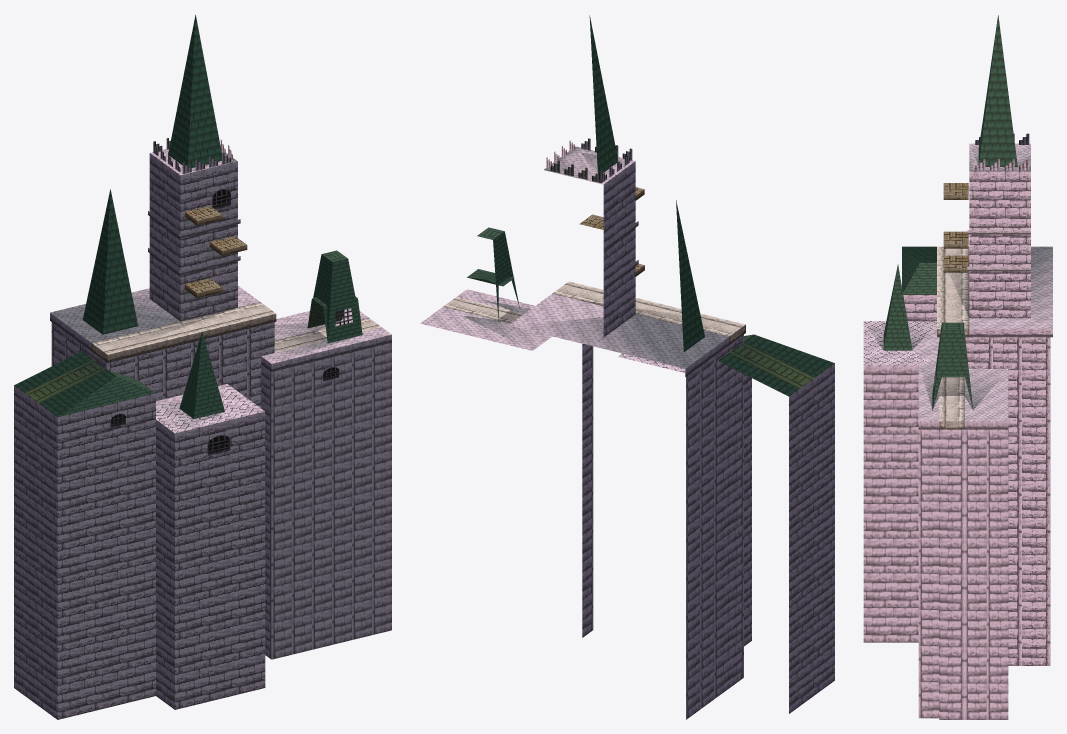
Rendered from HyruleCastle.glb.
3 renders of one model, left to right at view 1: azimuth 30°, elevation 25°; view 2: azimuth 150°, elevation 25°; view 3: azimuth 270°, elevation 25°, orthographic. The views are drawn at different scales.
Parts seen in each view (by area): view 1: HyruleCastle_3, HyruleCastle_4, HyruleCastle_2, HyruleCastle_6, HyruleCastle_0, HyruleCastle_5, HyruleCastle_12, HyruleCastle_11, HyruleCastle_14, HyruleCastle_18, HyruleCastle_Alpha_9, HyruleCastle_Alpha_1 (+1 smaller); view 2: HyruleCastle_4, HyruleCastle_6, HyruleCastle_0, HyruleCastle_11, HyruleCastle_3, HyruleCastle_2, HyruleCastle_12, HyruleCastle_14, HyruleCastle_Alpha_1, HyruleCastle_5; view 3: HyruleCastle_4, HyruleCastle_3, HyruleCastle_11, HyruleCastle_0, HyruleCastle_2, HyruleCastle_12, HyruleCastle_5, HyruleCastle_18, HyruleCastle_6, HyruleCastle_7, HyruleCastle_Alpha_1, HyruleCastle_19.
Boxes of the visible parts, x1,y1,x2,y2 form: HyruleCastle_3: [57, 153, 265, 719]; HyruleCastle_4: [51, 322, 391, 659]; HyruleCastle_2: [14, 15, 362, 418]; HyruleCastle_6: [14, 385, 57, 719]; HyruleCastle_0: [50, 149, 391, 433]; HyruleCastle_5: [50, 211, 391, 371]; HyruleCastle_12: [92, 302, 380, 354]; HyruleCastle_11: [92, 352, 271, 659]; HyruleCastle_14: [24, 359, 106, 403]; HyruleCastle_18: [185, 206, 246, 293]; HyruleCastle_Alpha_9: [207, 188, 230, 455]; HyruleCastle_Alpha_1: [153, 138, 232, 173]; HyruleCastle_4: [686, 346, 728, 719]; HyruleCastle_6: [789, 363, 834, 713]; HyruleCastle_0: [420, 146, 728, 372]; HyruleCastle_11: [582, 335, 743, 688]; HyruleCastle_3: [603, 161, 751, 646]; HyruleCastle_2: [493, 15, 834, 396]; HyruleCastle_12: [443, 281, 745, 336]; HyruleCastle_14: [729, 342, 814, 388]; HyruleCastle_Alpha_1: [546, 138, 632, 183]; HyruleCastle_5: [605, 221, 728, 376]; HyruleCastle_4: [964, 337, 1050, 719]; HyruleCastle_3: [863, 171, 1030, 642]; HyruleCastle_11: [918, 337, 964, 719]; HyruleCastle_0: [863, 143, 1052, 421]; HyruleCastle_2: [883, 15, 1017, 409]; HyruleCastle_12: [937, 246, 969, 421]; HyruleCastle_5: [918, 230, 1052, 429]; HyruleCastle_18: [943, 183, 968, 267]; HyruleCastle_6: [903, 295, 936, 321]; HyruleCastle_7: [932, 331, 973, 409]; HyruleCastle_Alpha_1: [975, 133, 1029, 170]; HyruleCastle_19: [943, 195, 968, 272].
Size of the model in its own units: 1132 by 1981 by 541.
22 materials, 22 textured.
